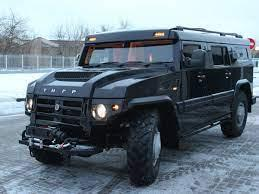armored_car: (23, 23, 259, 177)
